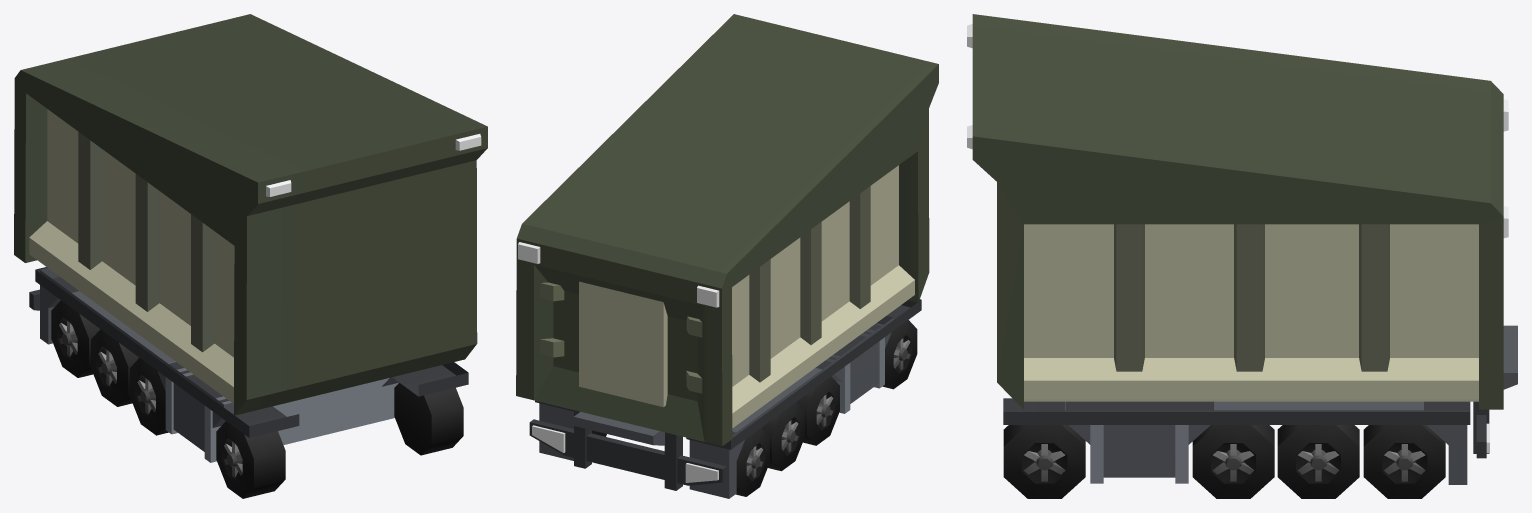
File: cargo_04_C_1.fbx
3 views of the same model, side by side, from view 1: azimuth 30°, elevation 25°; view 2: azimuth 150°, elevation 25°; view 3: azimuth 270°, elevation 25° (orthographic). The views are drawn at different scales.
Visible parts, largest first — view 1: cargo_04_C_1; view 2: cargo_04_C_1; view 3: cargo_04_C_1.
Part boxes in pixels (<box>): cargo_04_C_1: <box>14,14,487,498</box>; cargo_04_C_1: <box>516,14,938,498</box>; cargo_04_C_1: <box>967,14,1517,498</box>.
Size of the model in its own units: 13.81 by 19.24 by 26.1.
